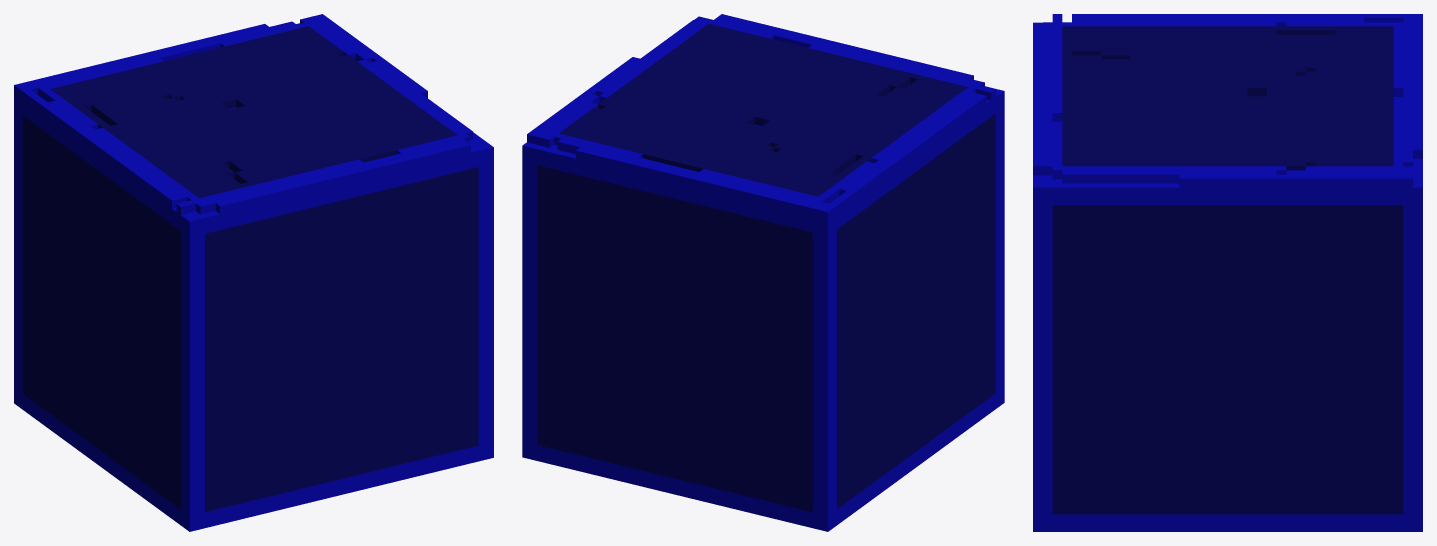
File: bloke.obj
3 views of the same model, side by side, from view 1: azimuth 30°, elevation 25°; view 2: azimuth 150°, elevation 25°; view 3: azimuth 270°, elevation 25° (orthographic). The views are drawn at different scales.
Bounding box in the file's own units: 4 × 4 × 4.
1 material, 1 textured.
